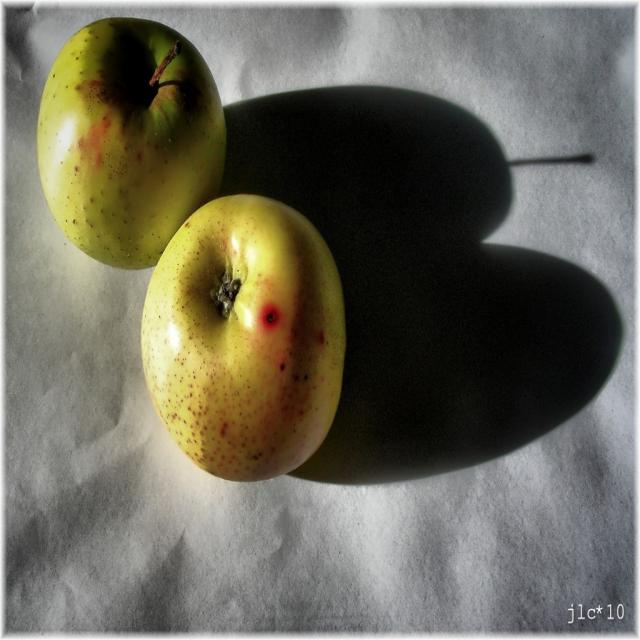Healty Apple: (140, 192, 346, 483), (34, 17, 229, 272)
